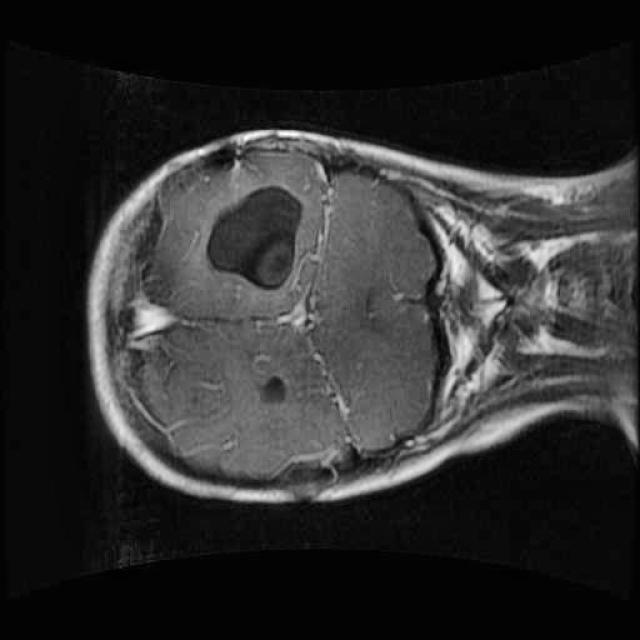Tumor: (195, 168, 320, 310)
